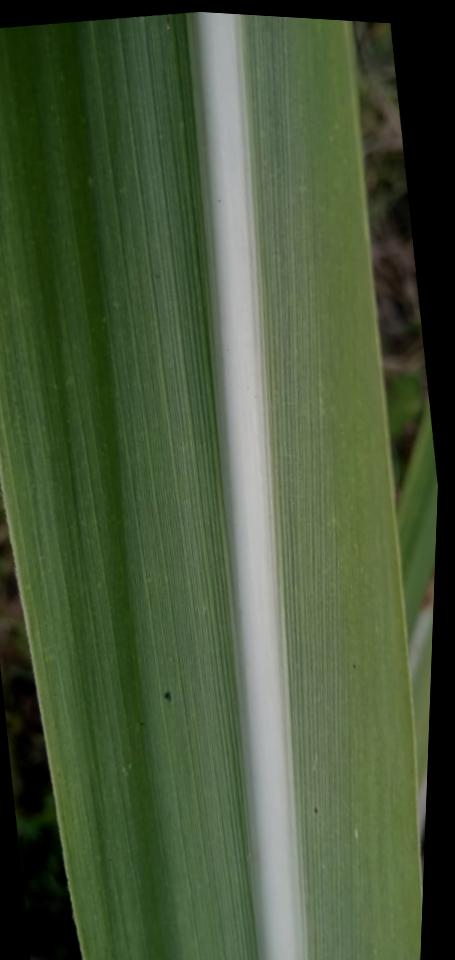Healthy: (0, 12, 422, 960)
